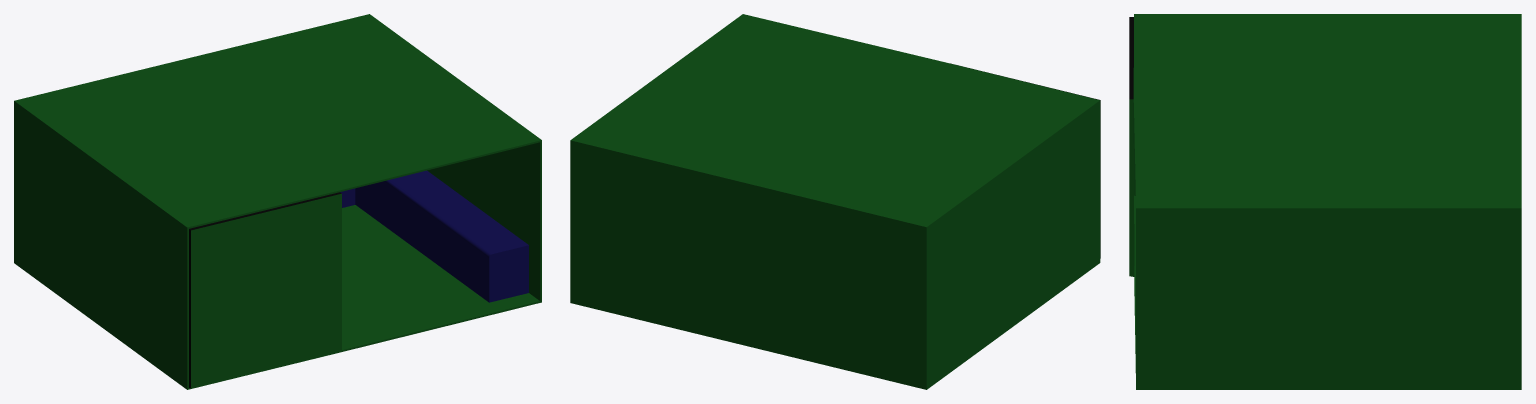
Rendered from Lapr2.fbx.
The picture shows the model from 3 angles, left to right: view 1: azimuth 30°, elevation 25°; view 2: azimuth 150°, elevation 25°; view 3: azimuth 270°, elevation 25°; orthographic projection. The views are drawn at different scales.
Parts seen in each view (by area): view 1: pCube5; view 2: pCube5; view 3: pCube5.
Boxes of the visible parts, <box> form: pCube5: <box>14,14,541,389</box>; pCube5: <box>570,14,1100,389</box>; pCube5: <box>1129,14,1521,389</box>.
Size of the model in its own units: 707 by 308 by 603.
